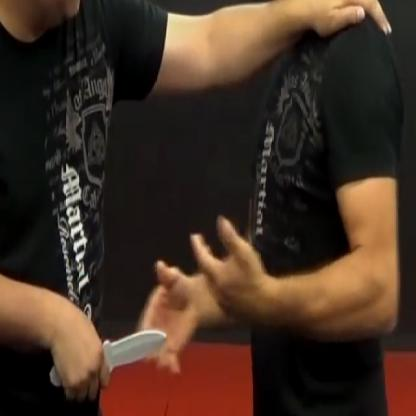knife: (44, 322, 172, 396)
